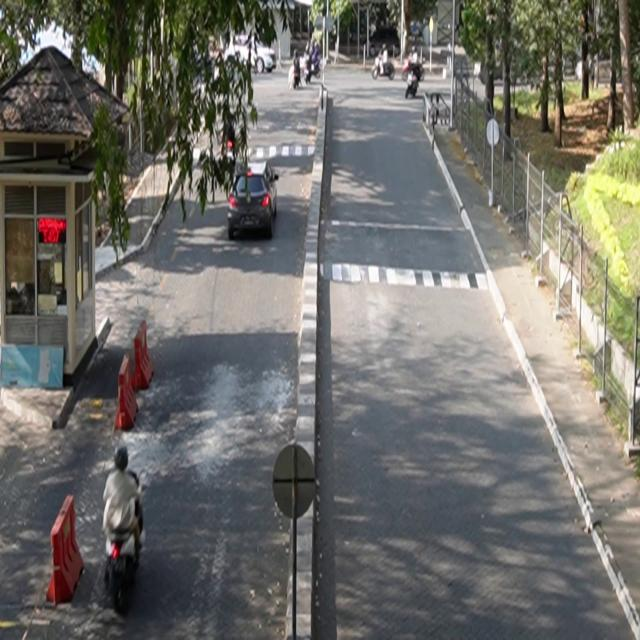car: (228, 161, 280, 240), (225, 34, 277, 75)
